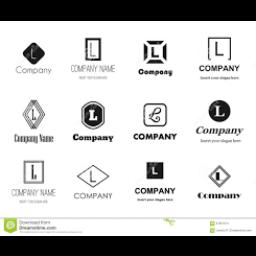l: (212, 102, 226, 118), (214, 38, 224, 58), (88, 106, 100, 122), (88, 168, 100, 182), (150, 42, 160, 58), (90, 39, 98, 57), (151, 164, 159, 176)
